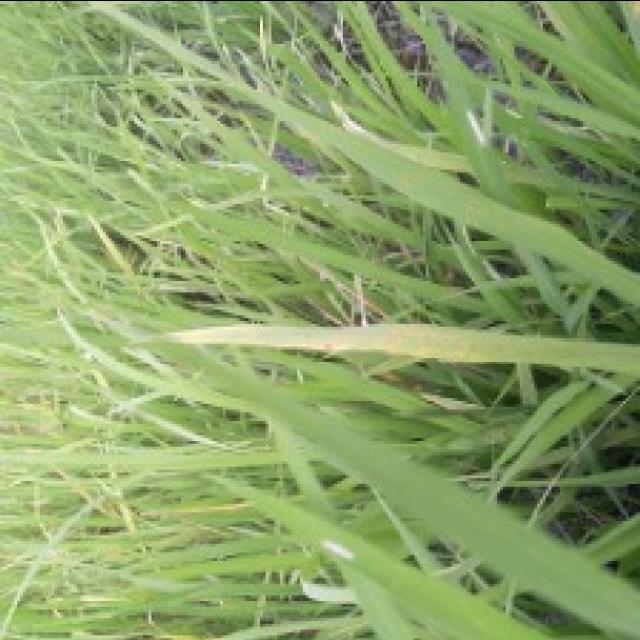Unhealthy: (320, 538, 356, 561), (315, 341, 343, 349)
